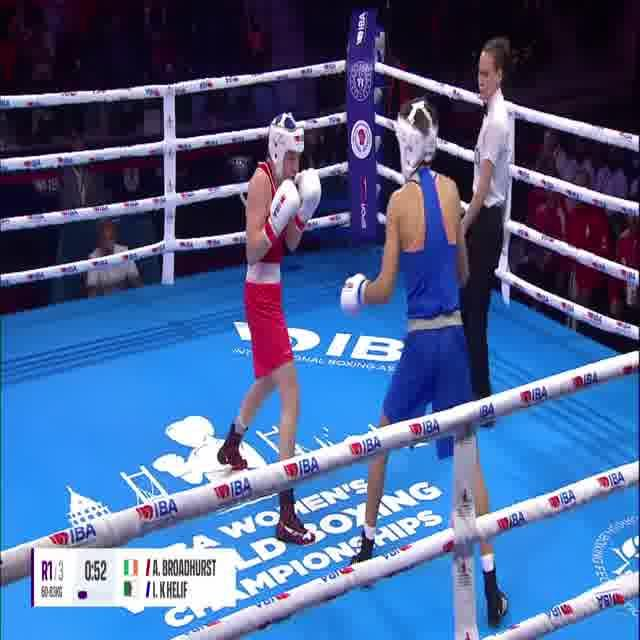blue-player: (336, 89, 510, 628)
red-player: (215, 107, 323, 548)
referee: (455, 39, 515, 440)
